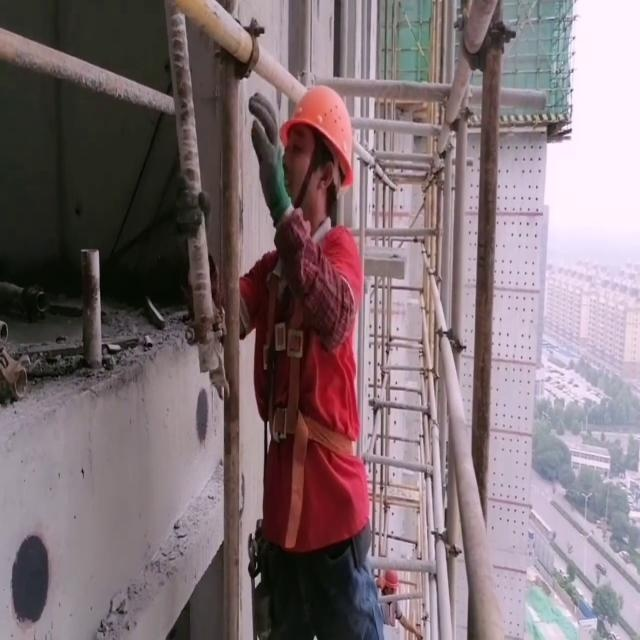Arnes_seguridad: (256, 223, 364, 477)
